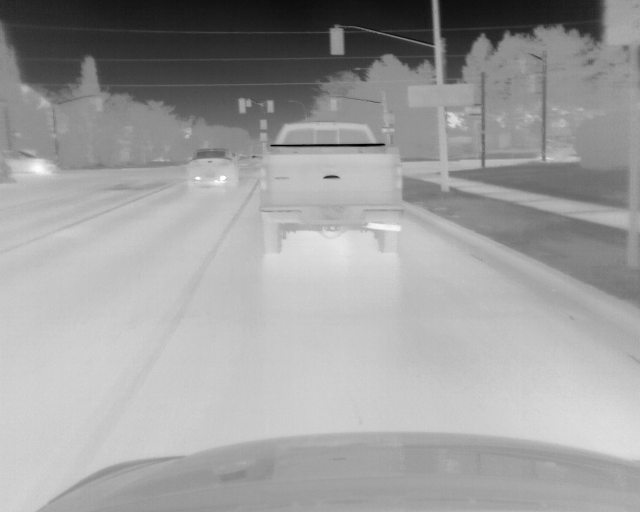car: (256, 121, 403, 256), (186, 148, 238, 188), (4, 149, 58, 177)
